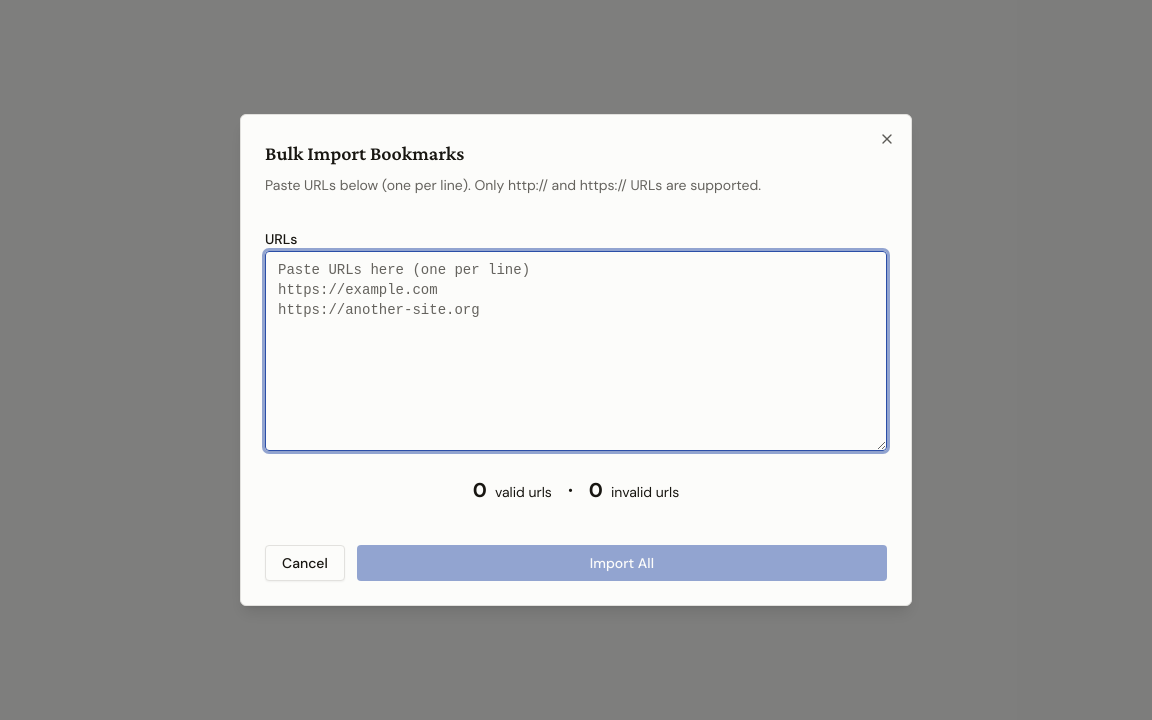
BulkImportModal › Import Button State › enables button when there are valid URLs
Type "https://example.com" into the text box with placeholder "Paste URLs" at (576, 351), box [265,251,887,451]
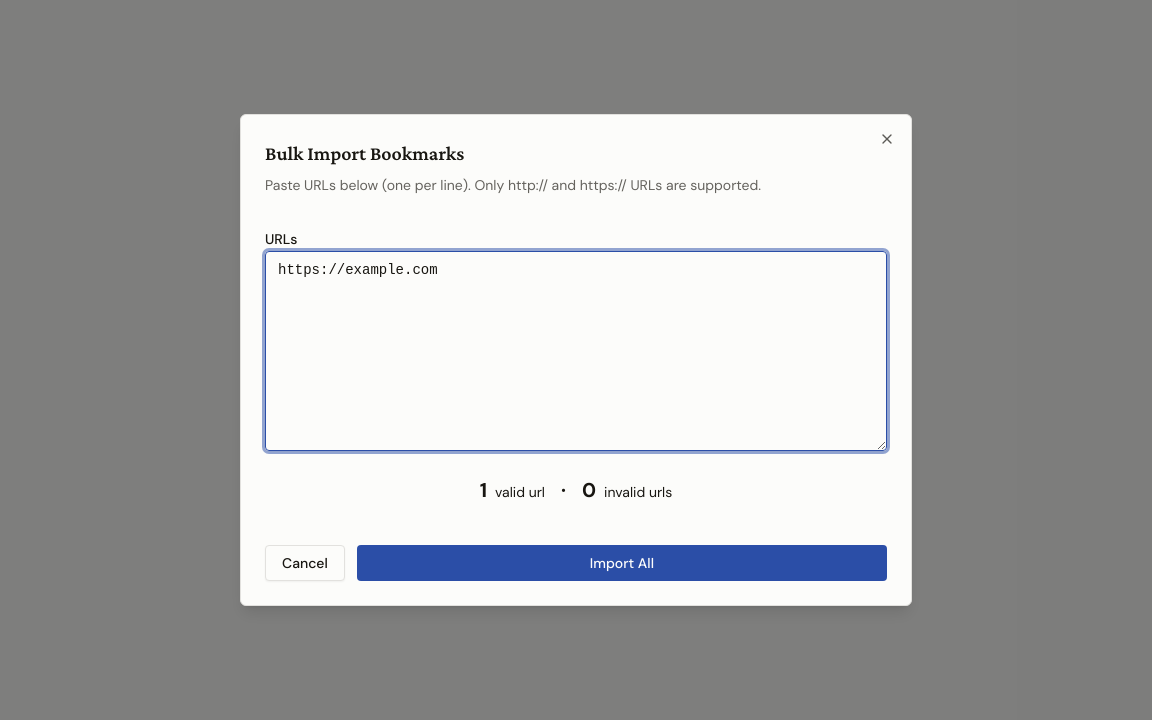
expect the button "Import All" is enabled: met, box [357,545,887,581]
